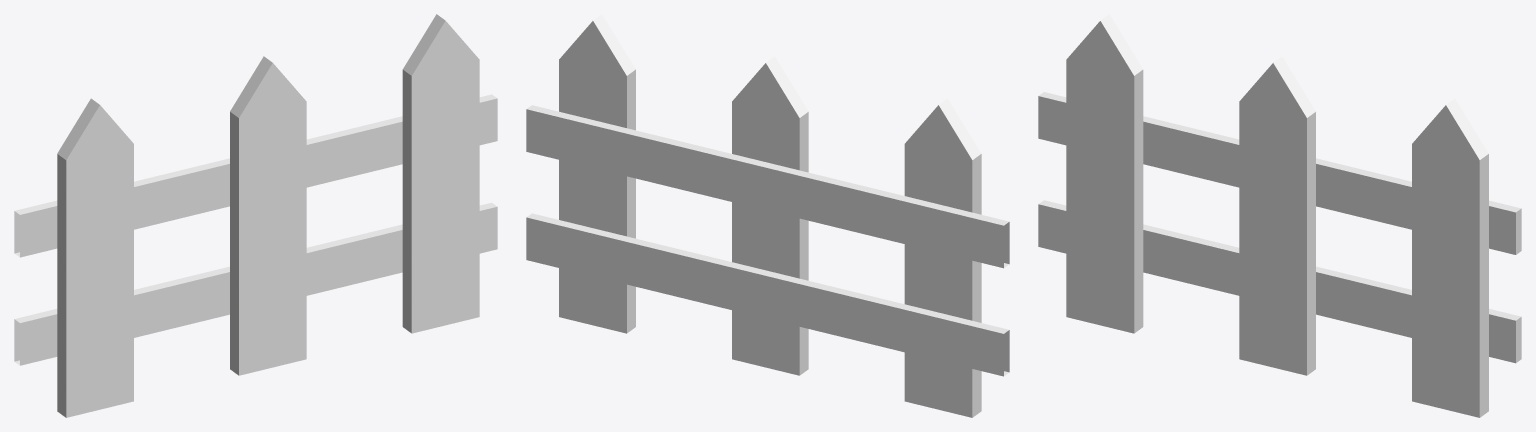
The model's file is FenceTile_3.fbx.
The picture shows the model from 3 angles, left to right: view 1: azimuth 30°, elevation 25°; view 2: azimuth 150°, elevation 25°; view 3: azimuth 330°, elevation 25°; orthographic projection.
Visible parts, largest first — view 1: FenceTile_3; view 2: FenceTile_3; view 3: FenceTile_3.
Part boxes in pixels (<box>): FenceTile_3: <box>14,14,497,417</box>; FenceTile_3: <box>526,14,1009,417</box>; FenceTile_3: <box>1038,14,1521,417</box>.
Size of the model in its own units: 201 by 122 by 10.68.
